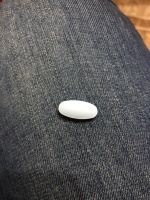Apranax: (57, 99, 100, 121)
